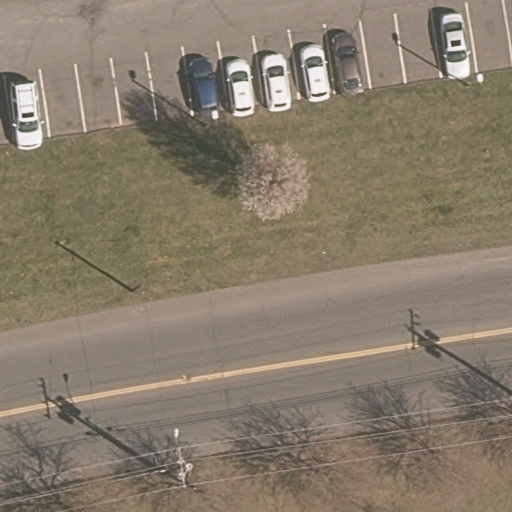DT: (158, 419, 208, 497)
